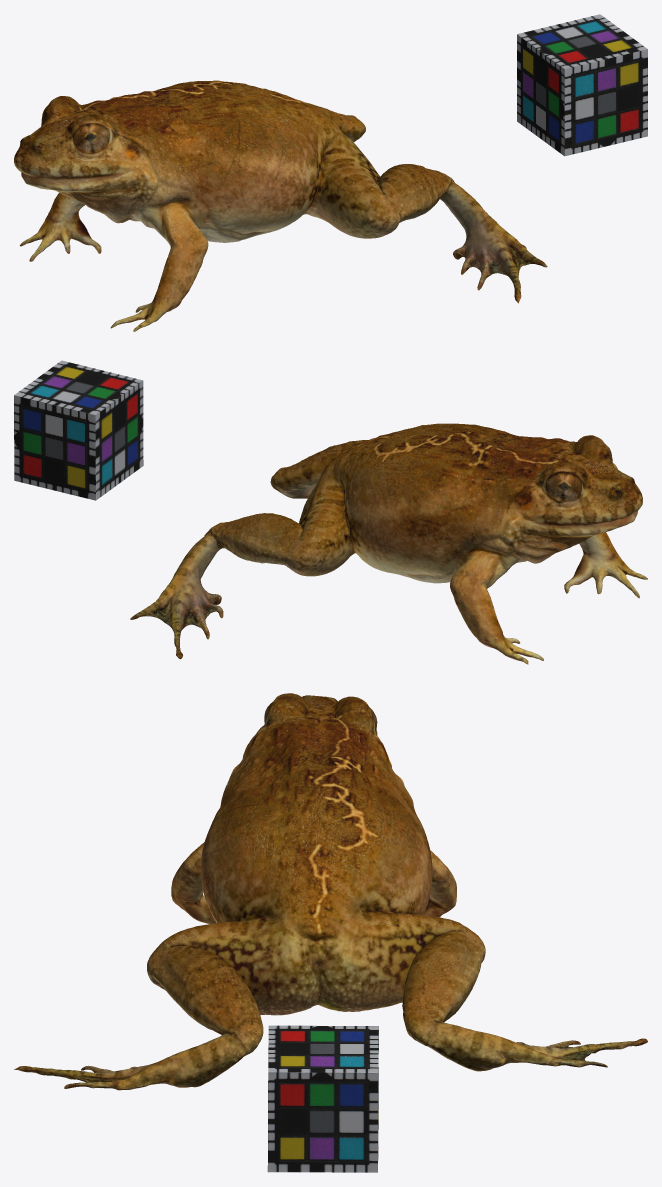
File: QS1528-W06-1-1_SCALED.gltf
3 renders of one model, top to bottom at view 1: azimuth 30°, elevation 25°; view 2: azimuth 150°, elevation 25°; view 3: azimuth 270°, elevation 25°, orthographic. The views are drawn at different scales.
Visible parts, largest first — view 1: QS1528-W06-1-1, Cube; view 2: QS1528-W06-1-1, Cube; view 3: QS1528-W06-1-1, Cube.
Boxes of the visible parts, <box> form: QS1528-W06-1-1: <box>14,80,547,331</box>; Cube: <box>517,14,647,156</box>; QS1528-W06-1-1: <box>130,423,647,664</box>; Cube: <box>14,360,143,500</box>; QS1528-W06-1-1: <box>14,693,647,1090</box>; Cube: <box>267,1025,378,1172</box>.
Bounding box in the file's own units: 0.0713 × 0.0205 × 0.0558.
2 materials, 2 textured.
